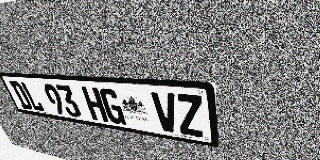3: (55, 84, 82, 118)
9: (41, 83, 68, 116)
D: (9, 81, 34, 110)
G: (98, 88, 126, 125)
H: (81, 86, 109, 122)
L: (20, 82, 45, 112)
V: (150, 92, 180, 134)
Z: (175, 94, 205, 138)
